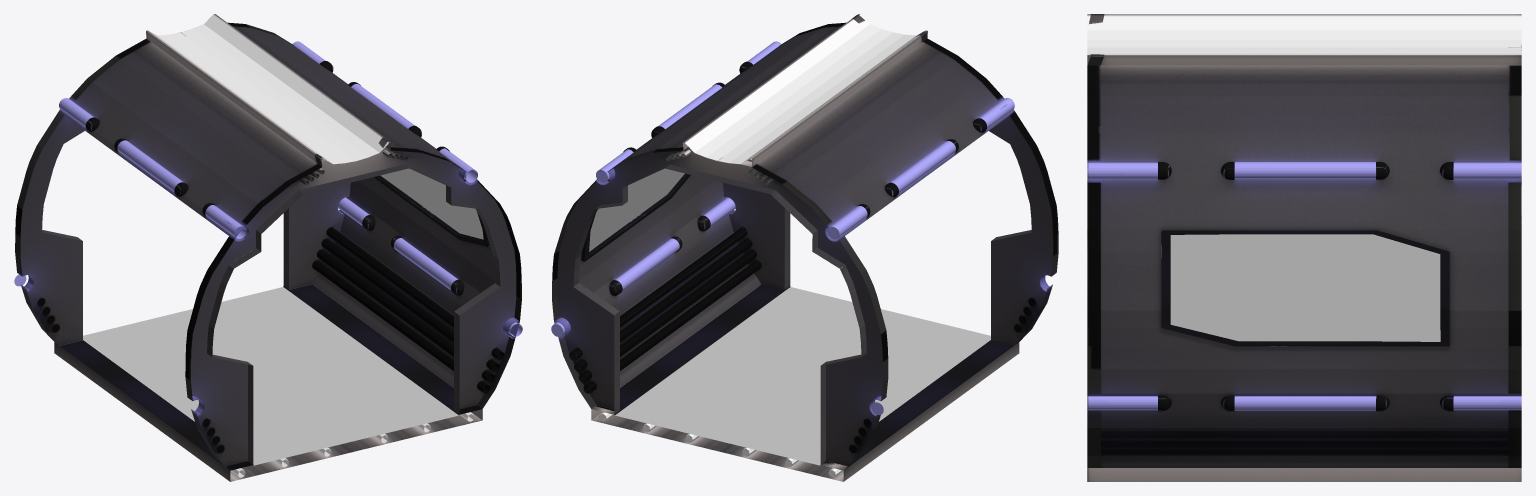
Rendered from Modulo_corridoio_DX.fbx.
3 views of the same model, side by side, from view 1: azimuth 30°, elevation 25°; view 2: azimuth 150°, elevation 25°; view 3: azimuth 270°, elevation 25° (orthographic). The views are drawn at different scales.
Parts seen in each view (by area): view 1: Corridoio_001, Pavimento_001, Vetri; view 2: Corridoio_001, Pavimento_001, Vetri; view 3: Corridoio_001, Vetri.
Boxes of the visible parts, x1=… form: Corridoio_001: x1=14, y1=14, x2=522, y2=481; Pavimento_001: x1=83, y1=287, x2=458, y2=465; Vetri: x1=380, y1=168, x2=483, y2=239; Corridoio_001: x1=551, y1=14, x2=1058, y2=481; Pavimento_001: x1=615, y1=287, x2=990, y2=465; Vetri: x1=589, y1=168, x2=684, y2=251; Corridoio_001: x1=1087, y1=14, x2=1521, y2=481; Vetri: x1=1170, y1=234, x2=1440, y2=341.
Bounding box in the file's own units: 7.08 × 6.1 × 6.47.
